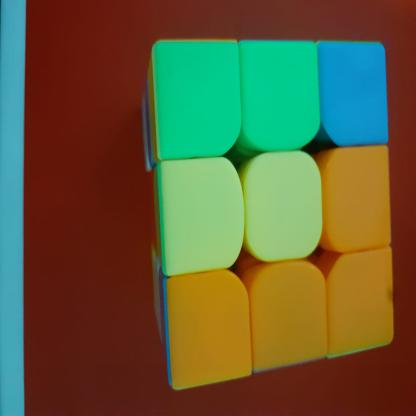cube: (136, 31, 395, 394)
